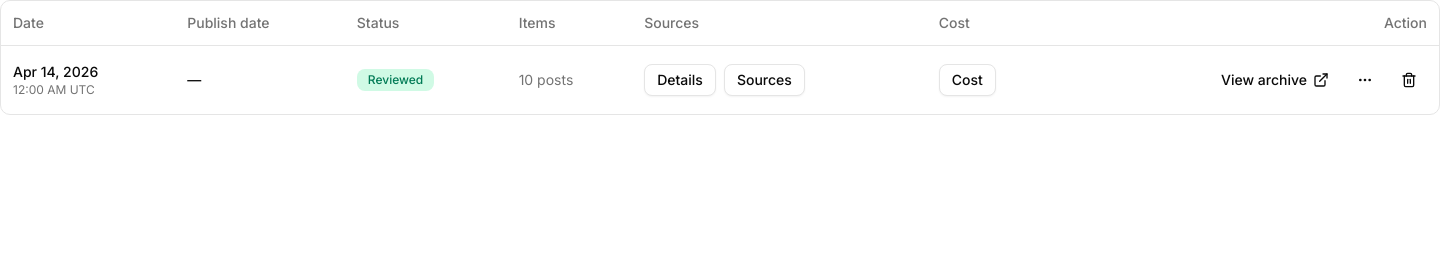
Test: EDGE-009: null permalink renders non-link posted indicator › renders '✓ Posted' text item (not a link) when postedAt set but permalink null
Click the button named "more actions". click: (1365, 80)
box: [1347,62,1383,98]
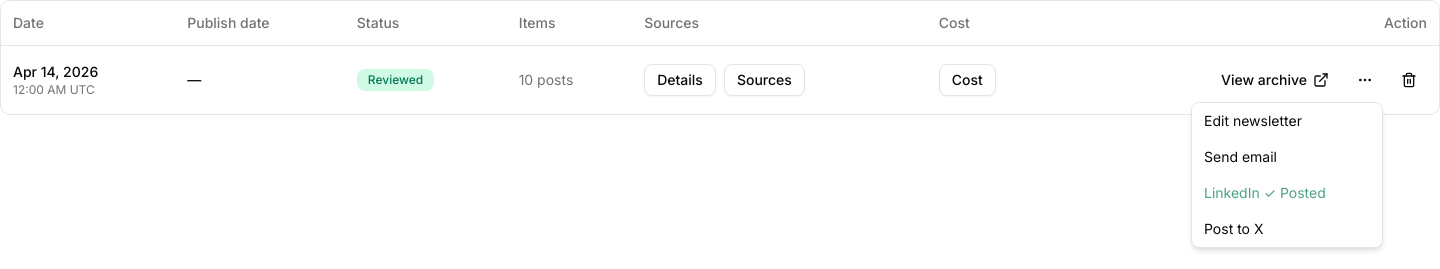
Expected: the menu item "LinkedIn ✓ Posted" is shown, [1204,184,1326,201]
